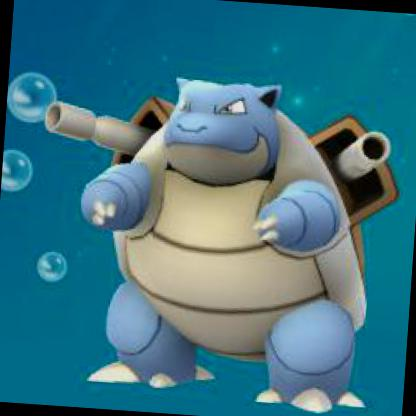Turtok: (0, 4, 415, 415)
